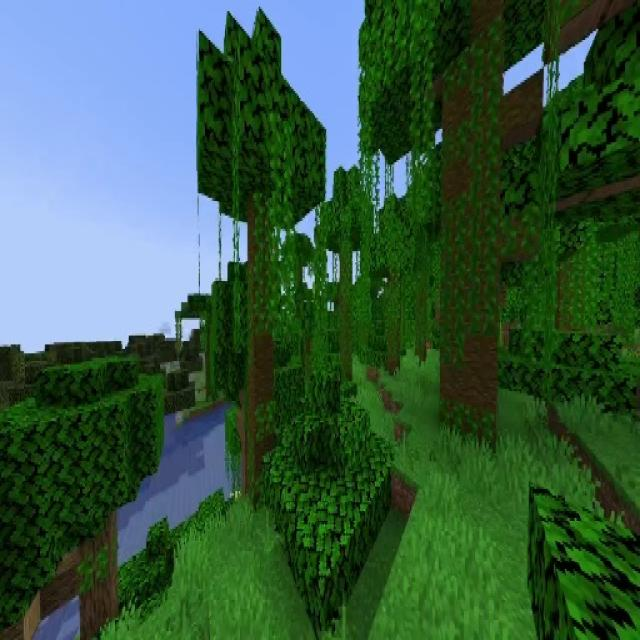jungle: (194, 5, 324, 477), (324, 167, 372, 387), (370, 200, 417, 375)
jungle_log: (439, 22, 502, 446), (246, 209, 273, 491), (340, 245, 354, 383), (388, 282, 400, 376)
oak_log: (77, 512, 116, 640)
